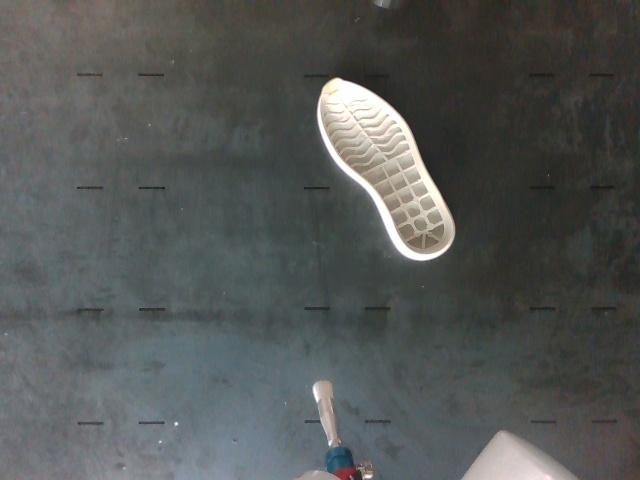shoes: (320, 79, 453, 255)
